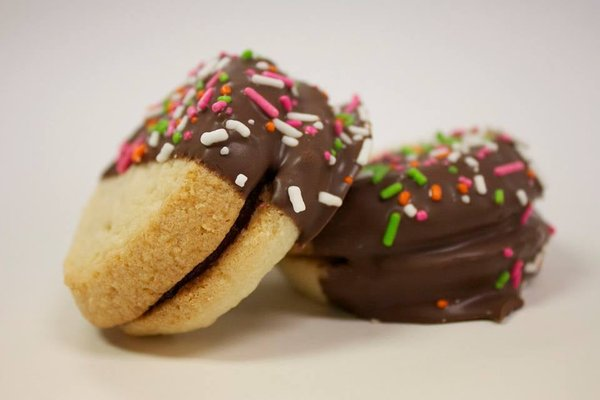salad: (90, 48, 373, 336), (281, 122, 557, 324)
sushi: (284, 121, 557, 323)
